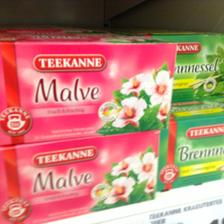Tee: (0, 34, 176, 146), (0, 129, 160, 223)
